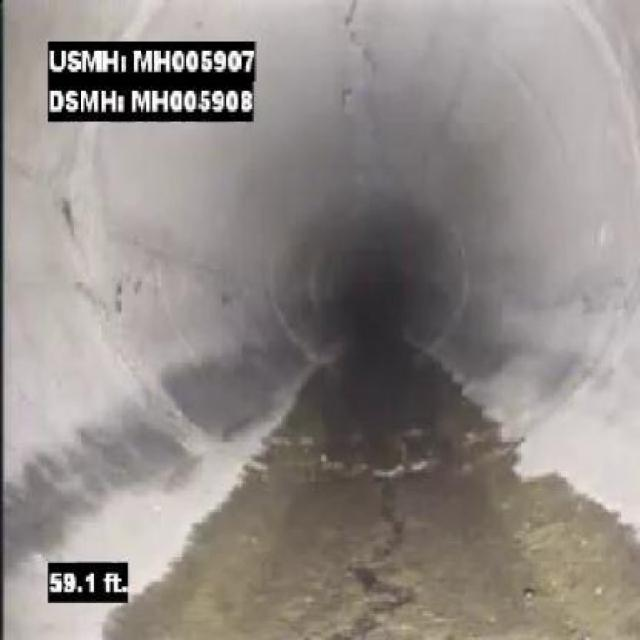Crack: (332, 469, 431, 637), (62, 214, 165, 329), (339, 0, 386, 128)
